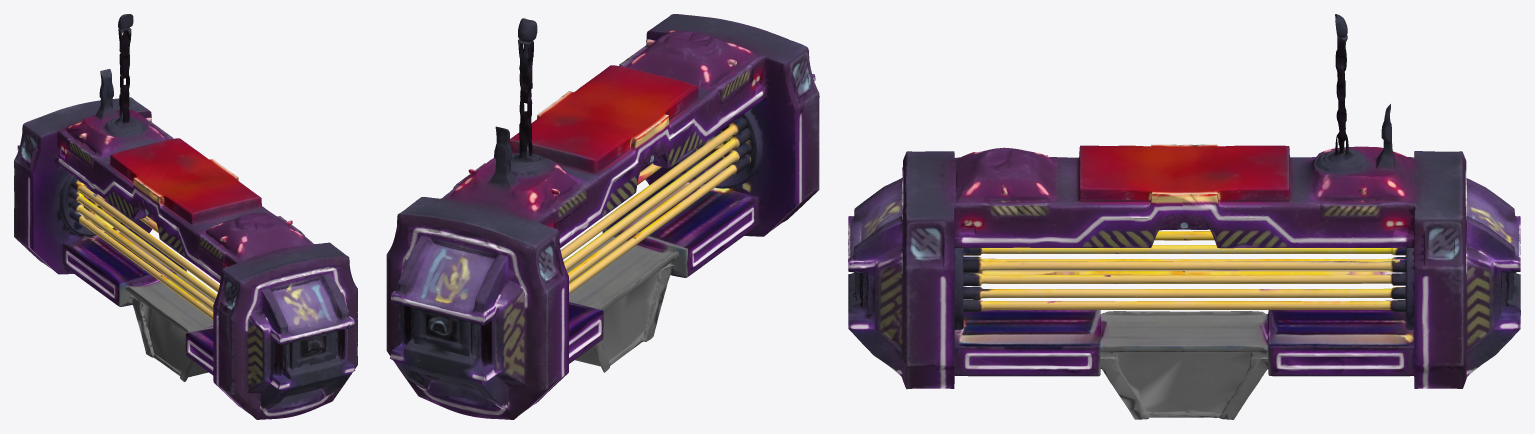
The model's file is slideee-optimized.glb.
3 renders of one model, left to right at view 1: azimuth 30°, elevation 25°; view 2: azimuth 150°, elevation 25°; view 3: azimuth 270°, elevation 25°, orthographic. The views are drawn at different scales.
Parts seen in each view (by area): view 1: tripo_node_e1eae4bd-1db5-4841-95ed-c368dfe88153; view 2: tripo_node_e1eae4bd-1db5-4841-95ed-c368dfe88153; view 3: tripo_node_e1eae4bd-1db5-4841-95ed-c368dfe88153.
Part boxes in pixels (x1,y1,x2,y2): tripo_node_e1eae4bd-1db5-4841-95ed-c368dfe88153: [14, 14, 357, 419]; tripo_node_e1eae4bd-1db5-4841-95ed-c368dfe88153: [386, 14, 819, 419]; tripo_node_e1eae4bd-1db5-4841-95ed-c368dfe88153: [848, 14, 1520, 419].
Bounding box in the file's own units: 0.2789 × 0.6413 × 1.
1 material, 1 textured.
